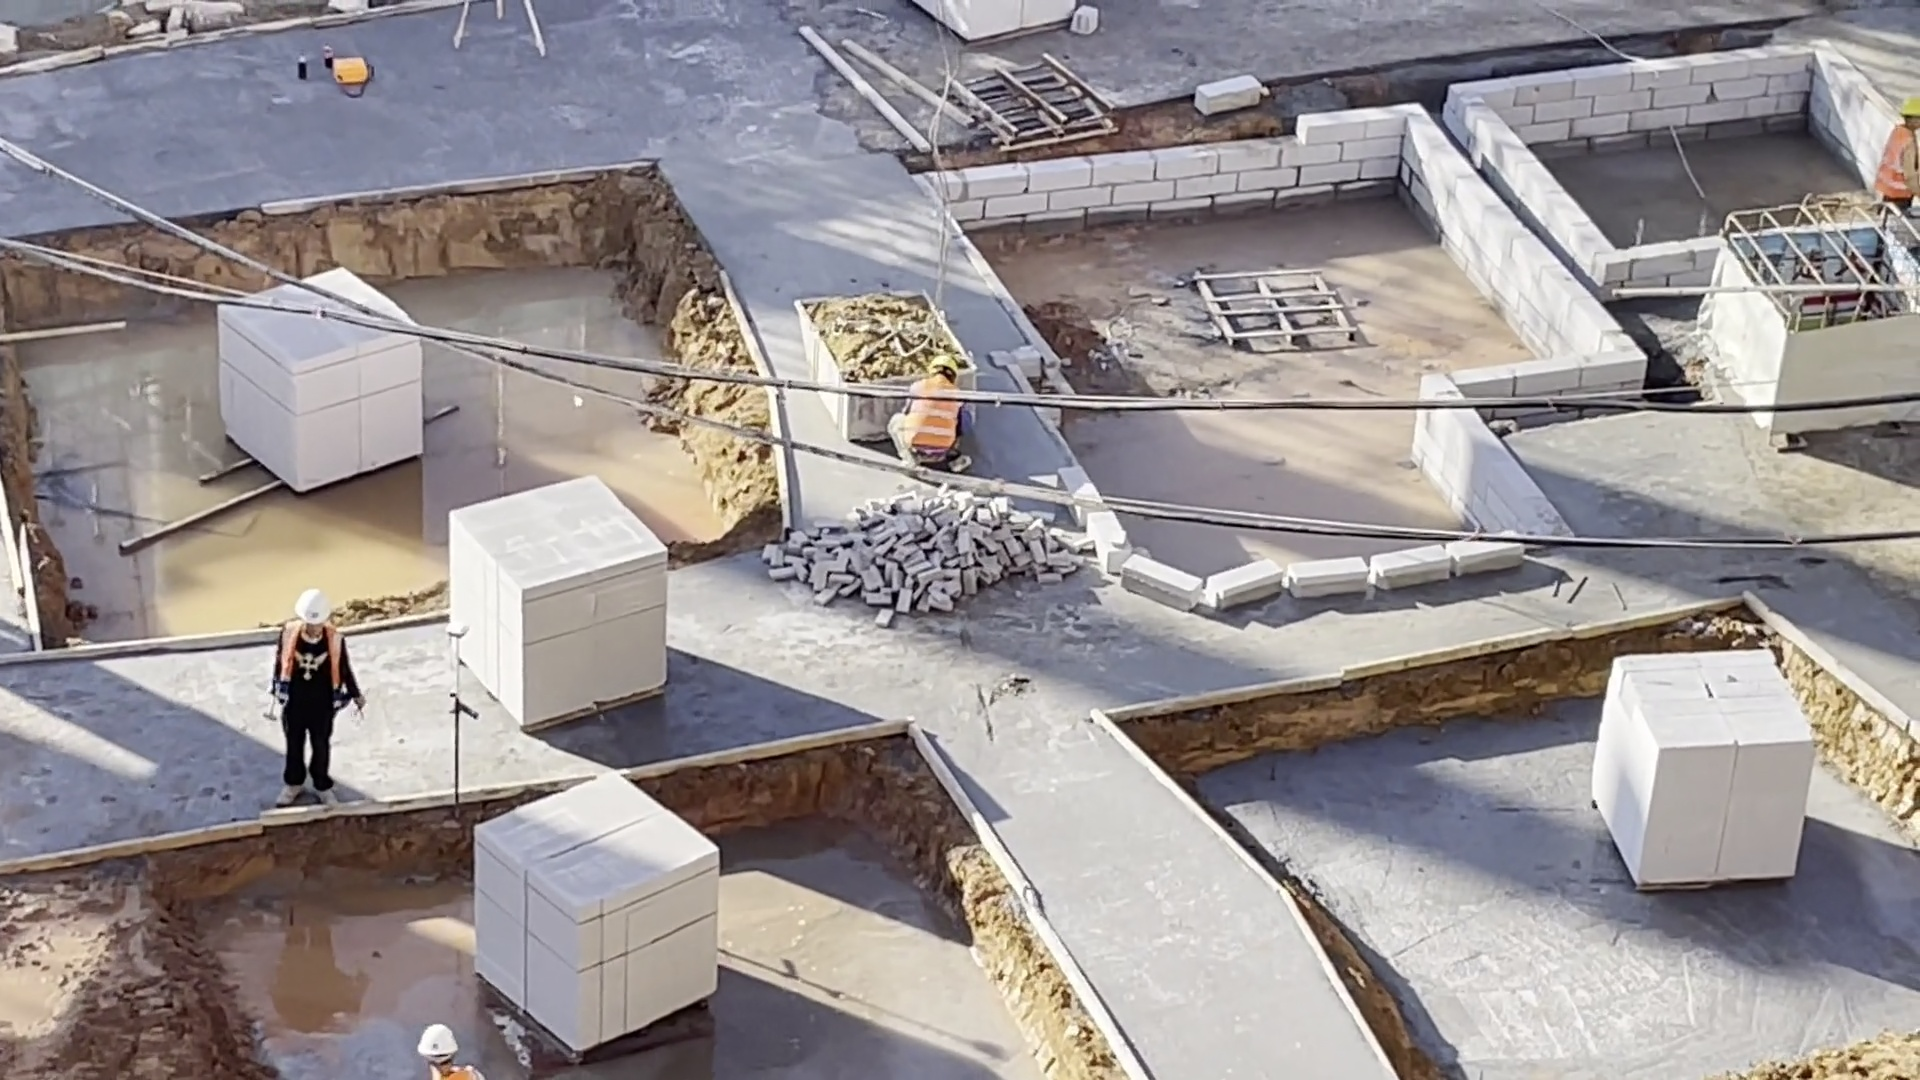brick: (464, 764, 727, 1056), (441, 469, 671, 728), (1583, 645, 1816, 890), (210, 341, 426, 508)
helmet: (293, 587, 334, 628), (417, 1023, 457, 1057), (924, 350, 961, 382), (1897, 99, 1920, 116)
hopper: (792, 289, 907, 386)
person: (264, 585, 367, 808), (886, 356, 972, 472), (1874, 98, 1920, 213), (414, 1023, 487, 1080)
vest: (276, 622, 348, 712), (1876, 126, 1917, 196), (907, 402, 963, 449)
